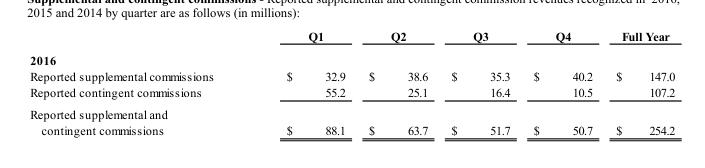table: (29, 28, 674, 136)
table column: (29, 28, 249, 136), (249, 28, 356, 136), (438, 28, 521, 136), (356, 28, 438, 136), (521, 28, 603, 136), (603, 28, 674, 136)
table column header: (29, 28, 674, 47)
table projected row header: (29, 47, 674, 68)
table row: (29, 103, 674, 136), (29, 47, 674, 68), (29, 28, 674, 47), (29, 84, 674, 103), (29, 68, 674, 84)
